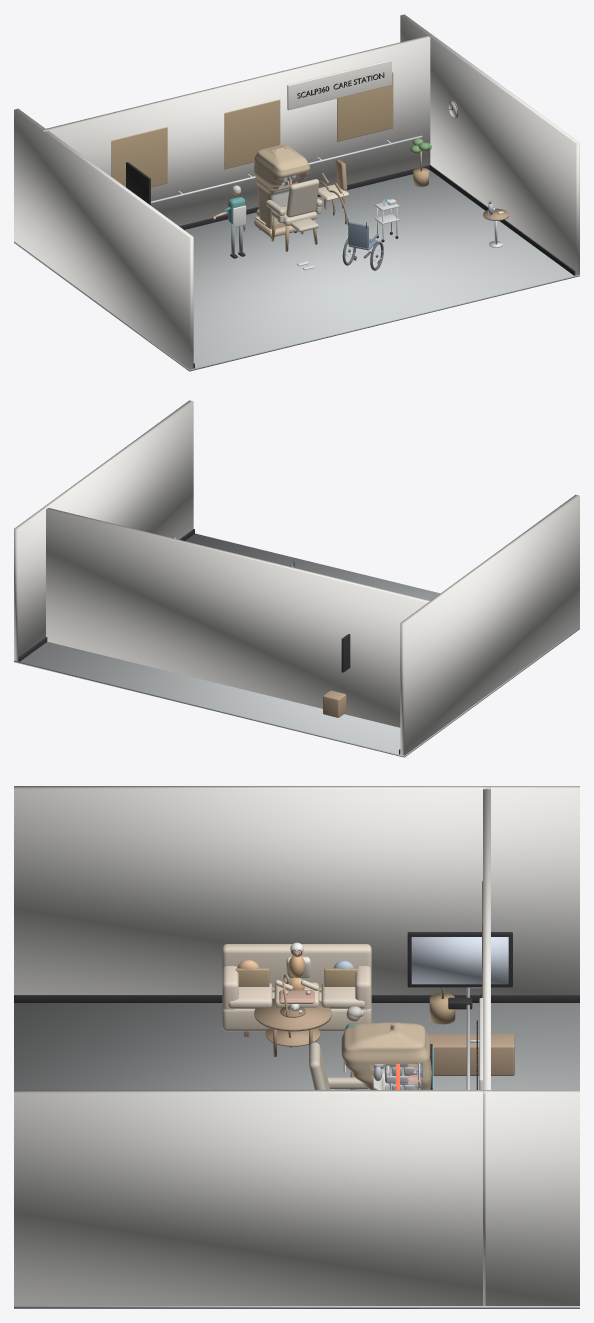
The model's file is garden.glb.
The picture shows the model from 3 angles, top to bottom: view 1: azimuth 30°, elevation 25°; view 2: azimuth 150°, elevation 25°; view 3: azimuth 270°, elevation 25°; orthographic projection. The views are drawn at different scales.
Visible parts, largest first — view 1: NXH_SeamBand; view 2: NXH_SeamBand; view 3: NXH_SeamBand.
Part boxes in pixels (bbox=[...]): NXH_SeamBand: bbox=[14, 14, 579, 371]; NXH_SeamBand: bbox=[14, 400, 579, 757]; NXH_SeamBand: bbox=[14, 786, 579, 1308].
Bounding box in the file's own units: 9 × 3.24 × 7.
